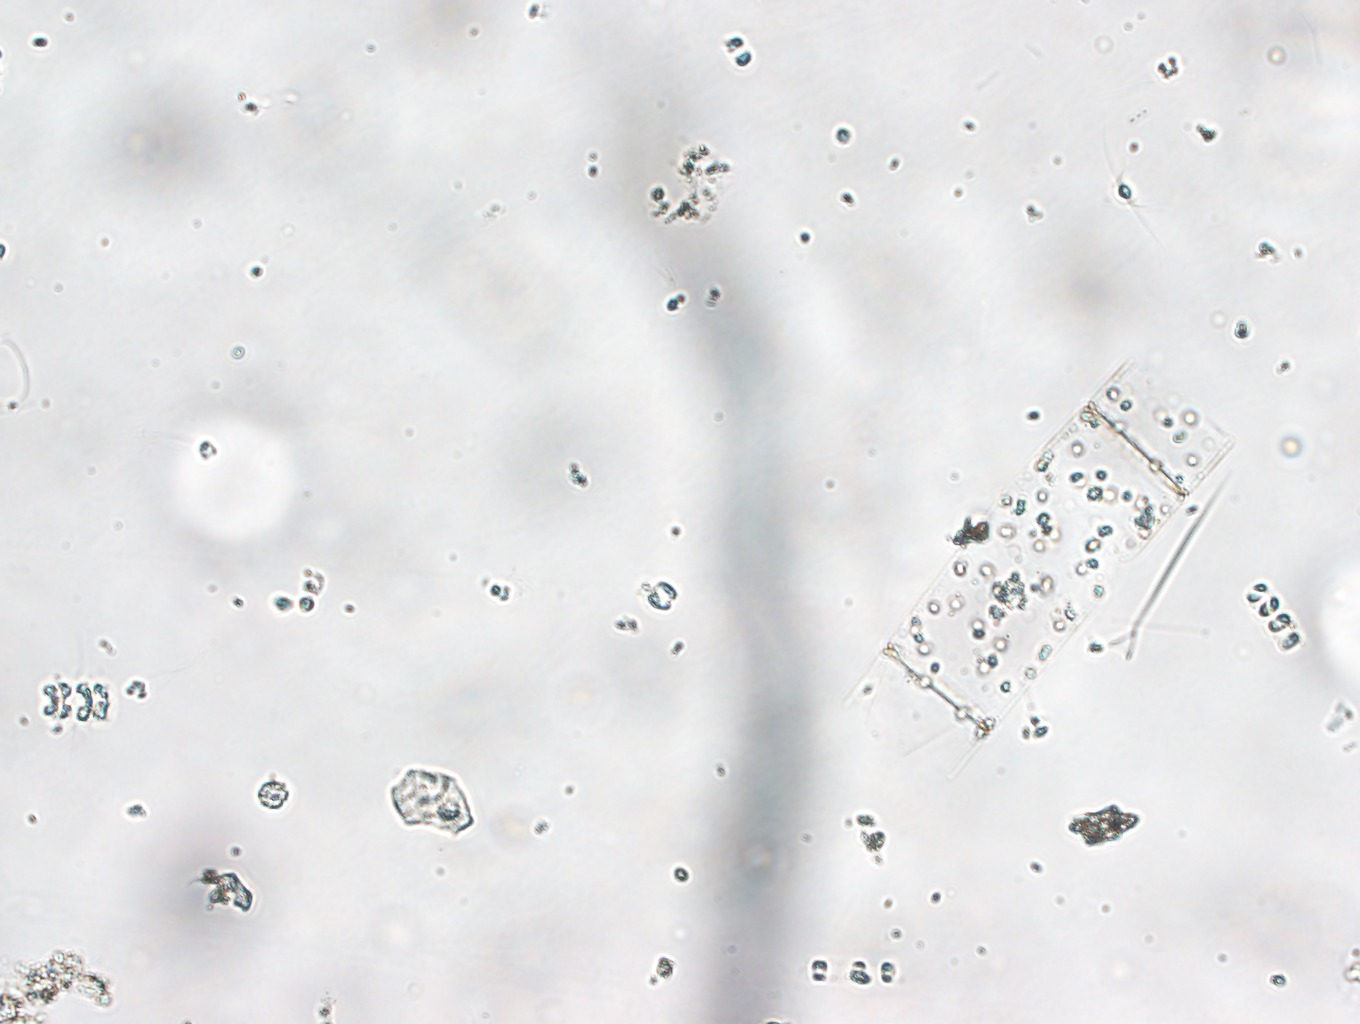guinardia flaccida: (867, 319, 1222, 756)
